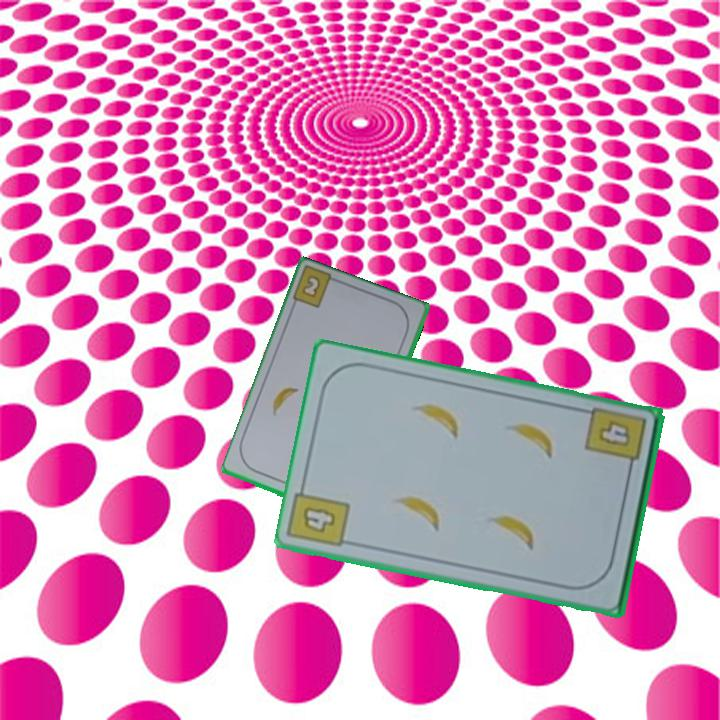2b: (301, 274, 321, 298)
4b: (582, 403, 649, 477), (298, 504, 338, 536)
